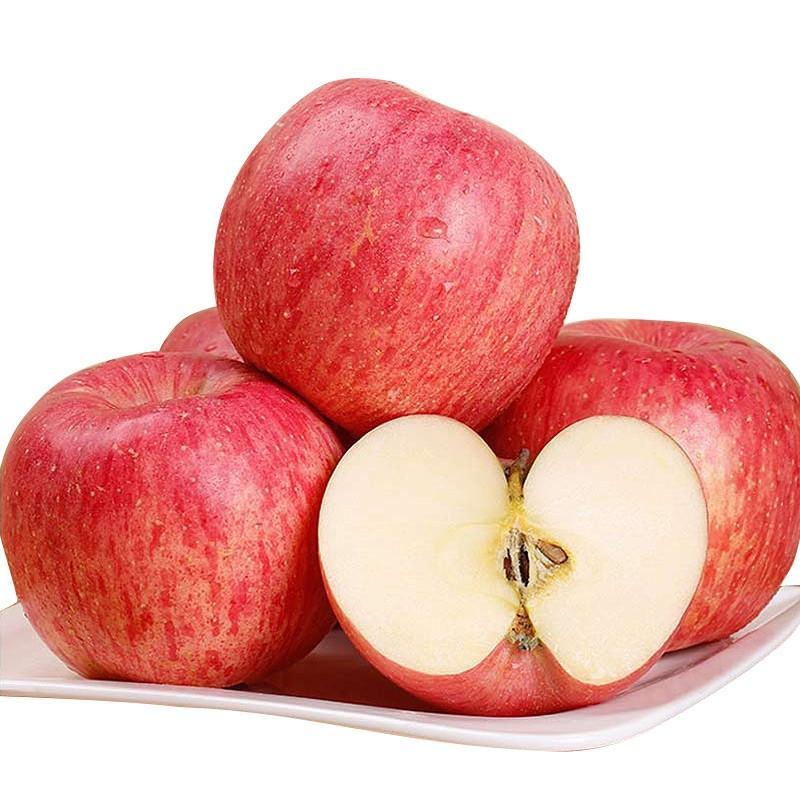apple: (214, 69, 583, 434), (319, 411, 708, 719), (4, 355, 347, 690), (486, 317, 800, 653)
